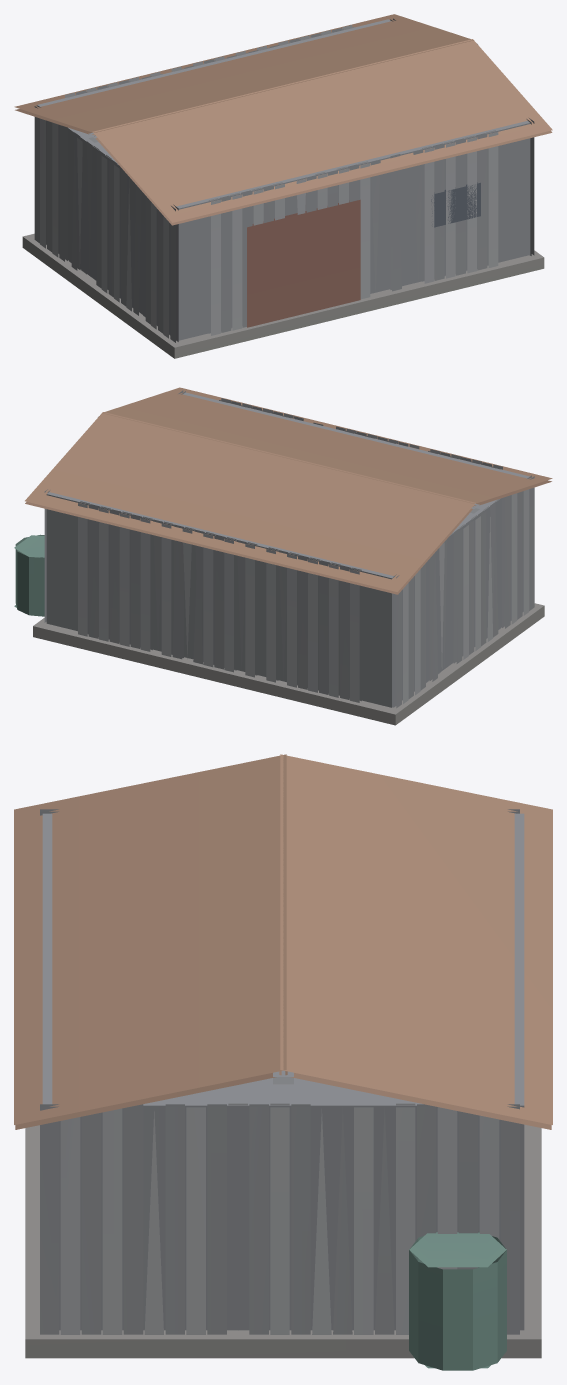
File: sv_shed.lod.glb
3 renders of one model, top to bottom at view 1: azimuth 30°, elevation 25°; view 2: azimuth 150°, elevation 25°; view 3: azimuth 270°, elevation 25°, orthographic. The views are drawn at different scales.
Parts seen in each view (by area): view 1: sv_shed; view 2: sv_shed; view 3: sv_shed.
Boxes of the visible parts, left/top/right/bottom form: sv_shed: left=14, top=14, right=552, bottom=358; sv_shed: left=14, top=387, right=552, bottom=725; sv_shed: left=14, top=754, right=552, bottom=1370.
Size of the model in its own units: 11.67 by 4.63 by 7.72.
